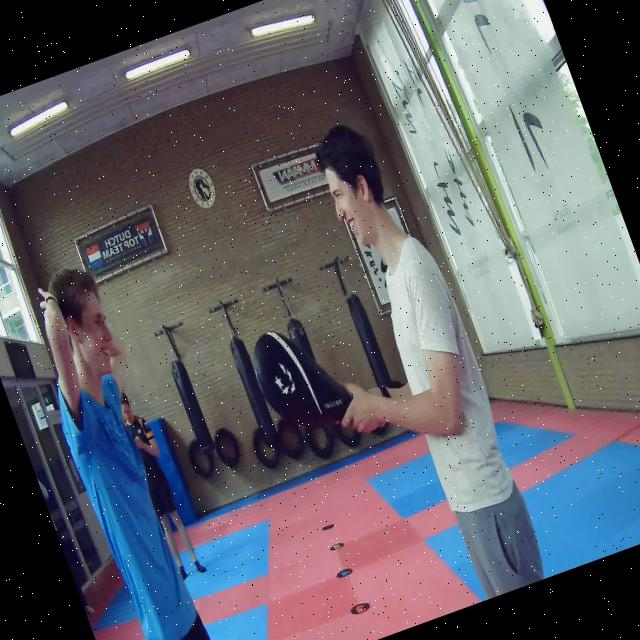paddle: (252, 332, 354, 428)
